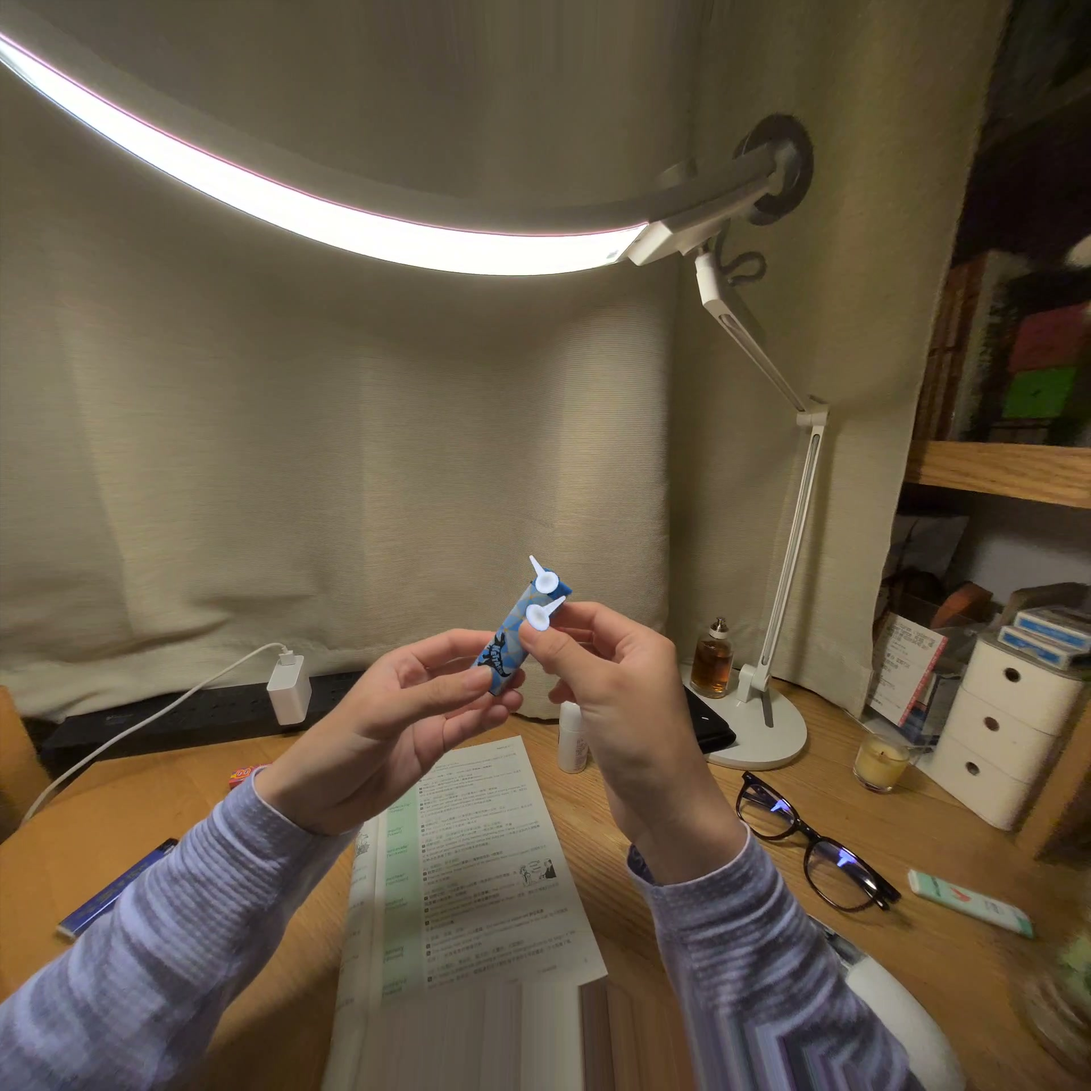lighter: (475, 570, 572, 694)
